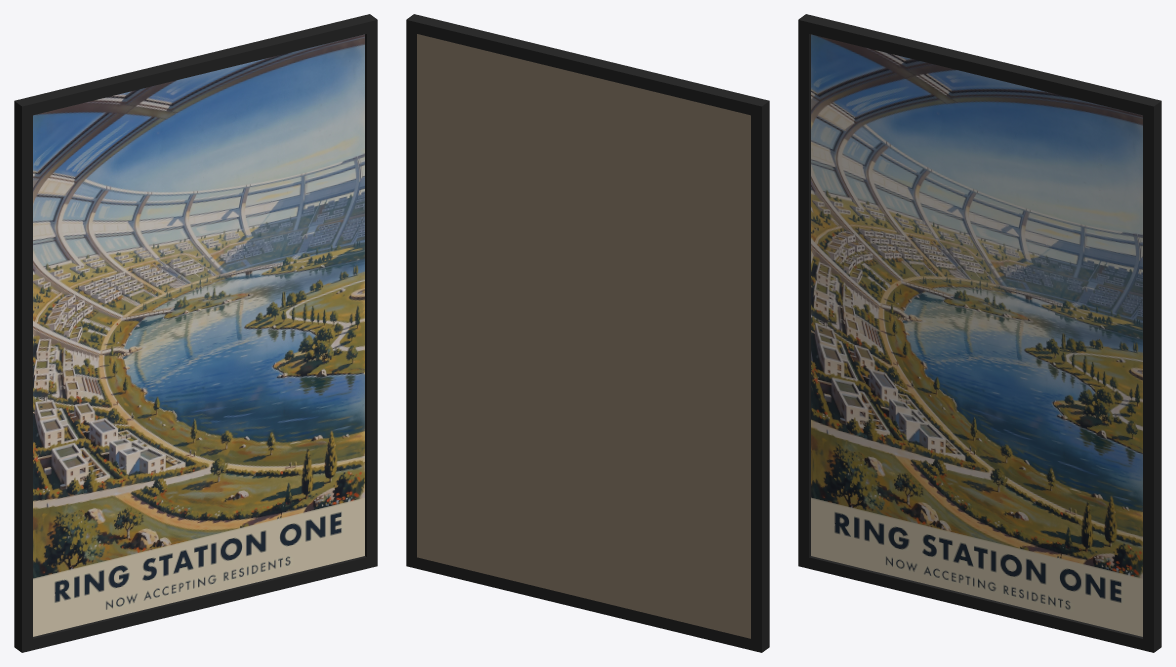
The model's file is poster-ring-station.glb.
3 views of the same model, side by side, from view 1: azimuth 30°, elevation 25°; view 2: azimuth 150°, elevation 25°; view 3: azimuth 330°, elevation 25° (orthographic).
Parts seen in each view (by area): view 1: poster-ring-station; view 2: poster-ring-station; view 3: poster-ring-station.
Boxes of the visible parts, left/top/right/bottom form: poster-ring-station: left=14, top=14, right=377, bottom=652; poster-ring-station: left=406, top=14, right=769, bottom=652; poster-ring-station: left=798, top=14, right=1161, bottom=652.
Bounding box in the file's own units: 0.65 × 0.954 × 0.025.
Materials: 3 (1 with a texture image).
